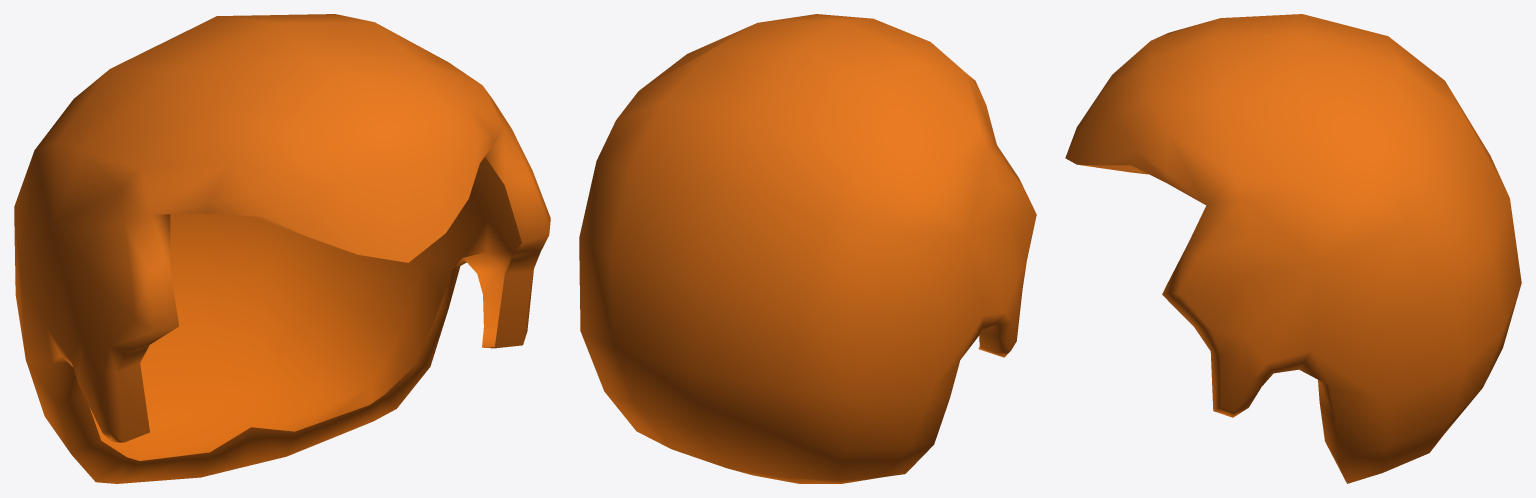
Rendered from Hair_Orange_2.fbx.
3 views of the same model, side by side, from view 1: azimuth 30°, elevation 25°; view 2: azimuth 150°, elevation 25°; view 3: azimuth 270°, elevation 25° (orthographic). The views are drawn at different scales.
Visible parts, largest first — view 1: Hair_Orange_2; view 2: Hair_Orange_2; view 3: Hair_Orange_2.
Boxes of the visible parts, x1=… form: Hair_Orange_2: x1=14, y1=14, x2=550, y2=483; Hair_Orange_2: x1=579, y1=14, x2=1036, y2=483; Hair_Orange_2: x1=1065, y1=14, x2=1521, y2=483.
Bounding box in the file's own units: 52.84 × 52.69 × 53.88.
